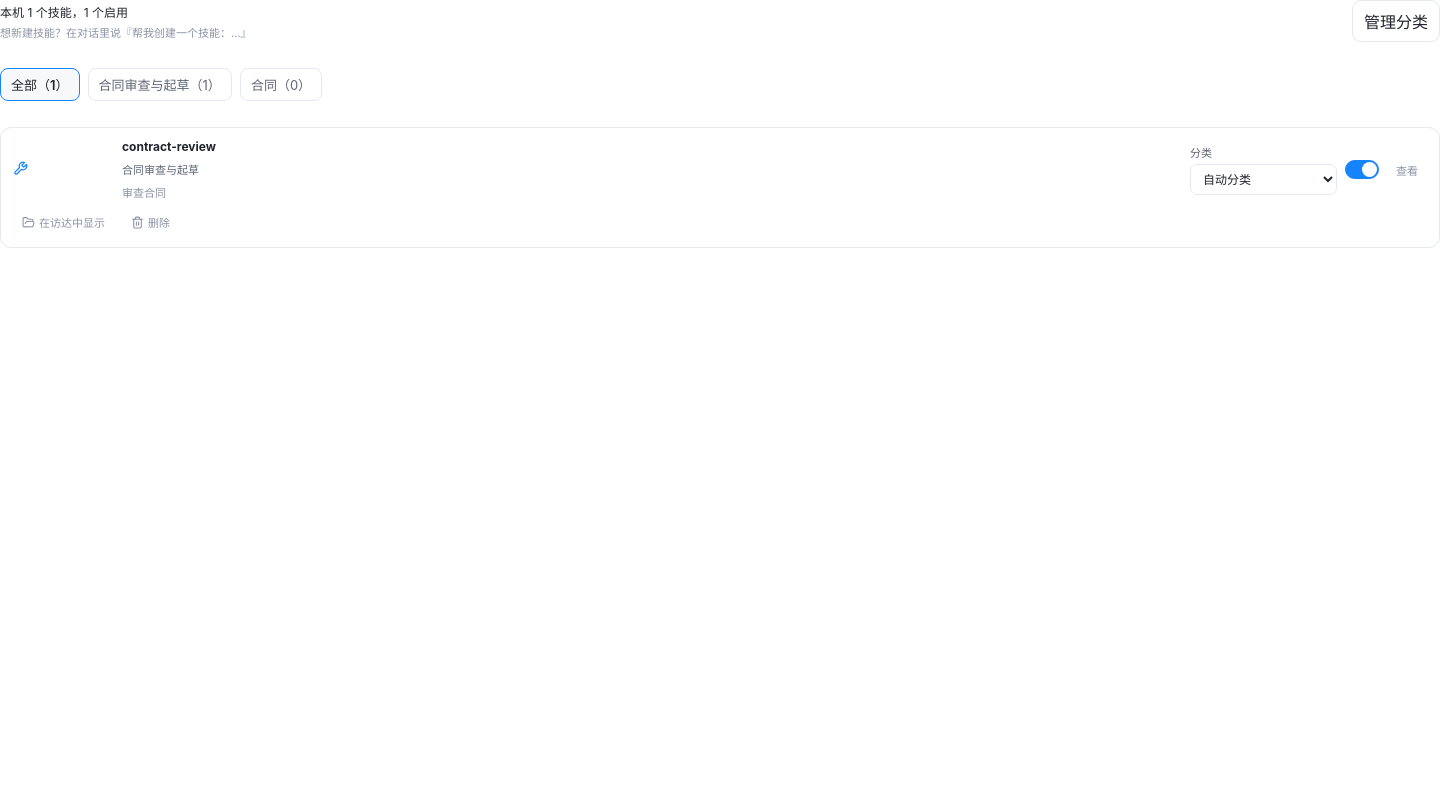
Scenario: renames and deletes custom categories after confirmation
Click the button "管理分类": (1396, 21) [1352,0,1439,42]
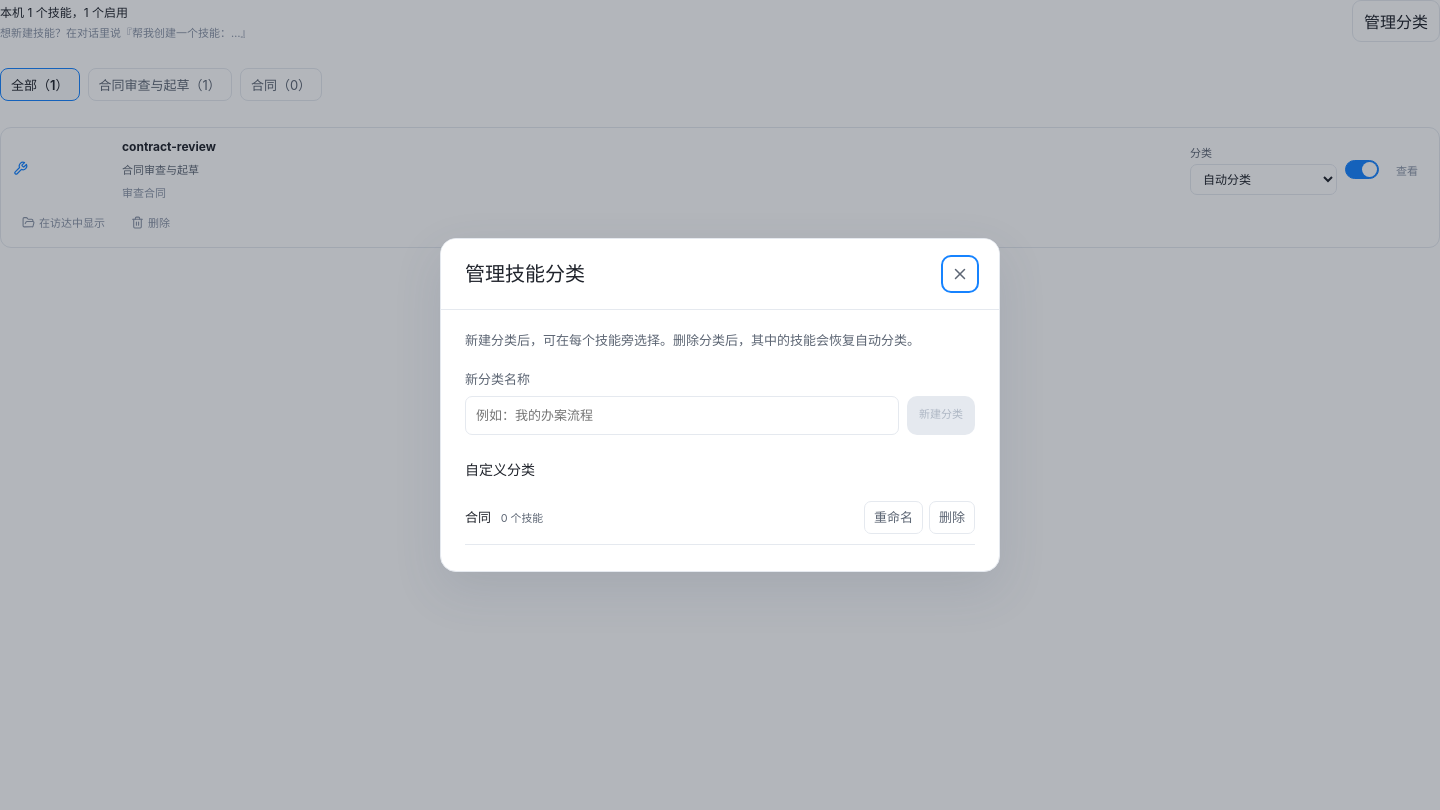
Click the button with aria-label "重命名分类 合同": (894, 517) [864,501,923,534]
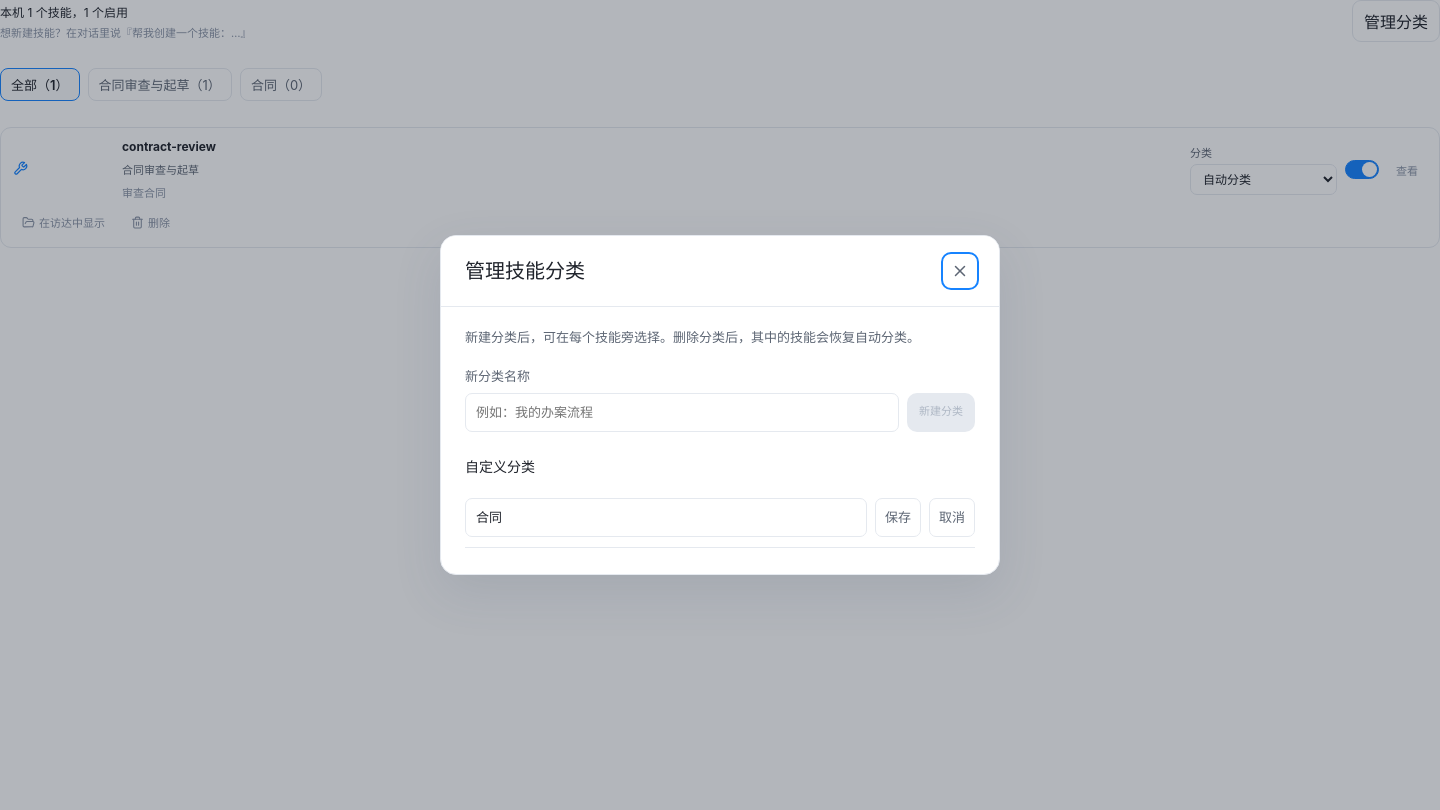
Replace the text in the field named "修改分类 合同 的名称" with "重点合同": (666, 517) [465,498,867,537]
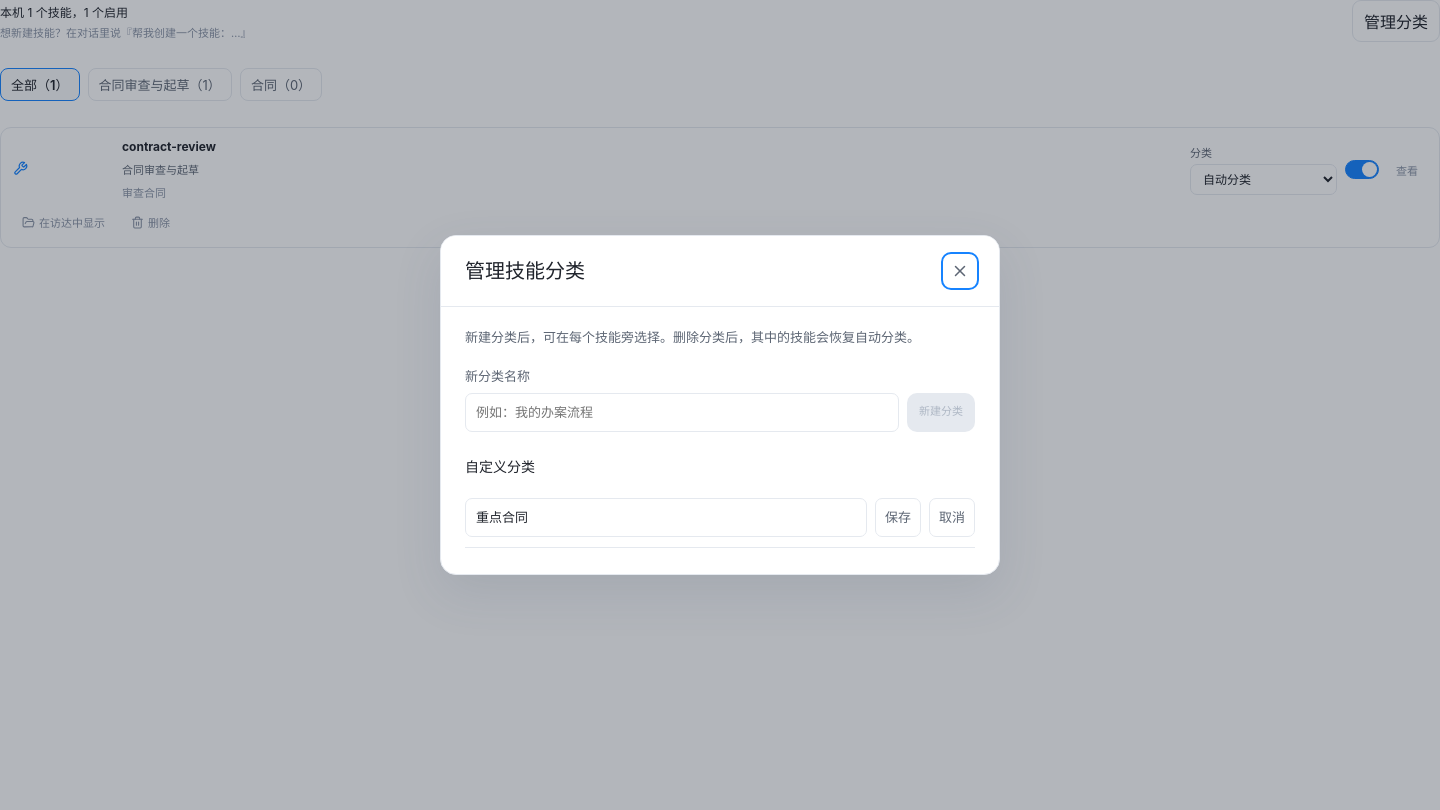
Click the button "保存": (898, 517) [875,498,921,537]
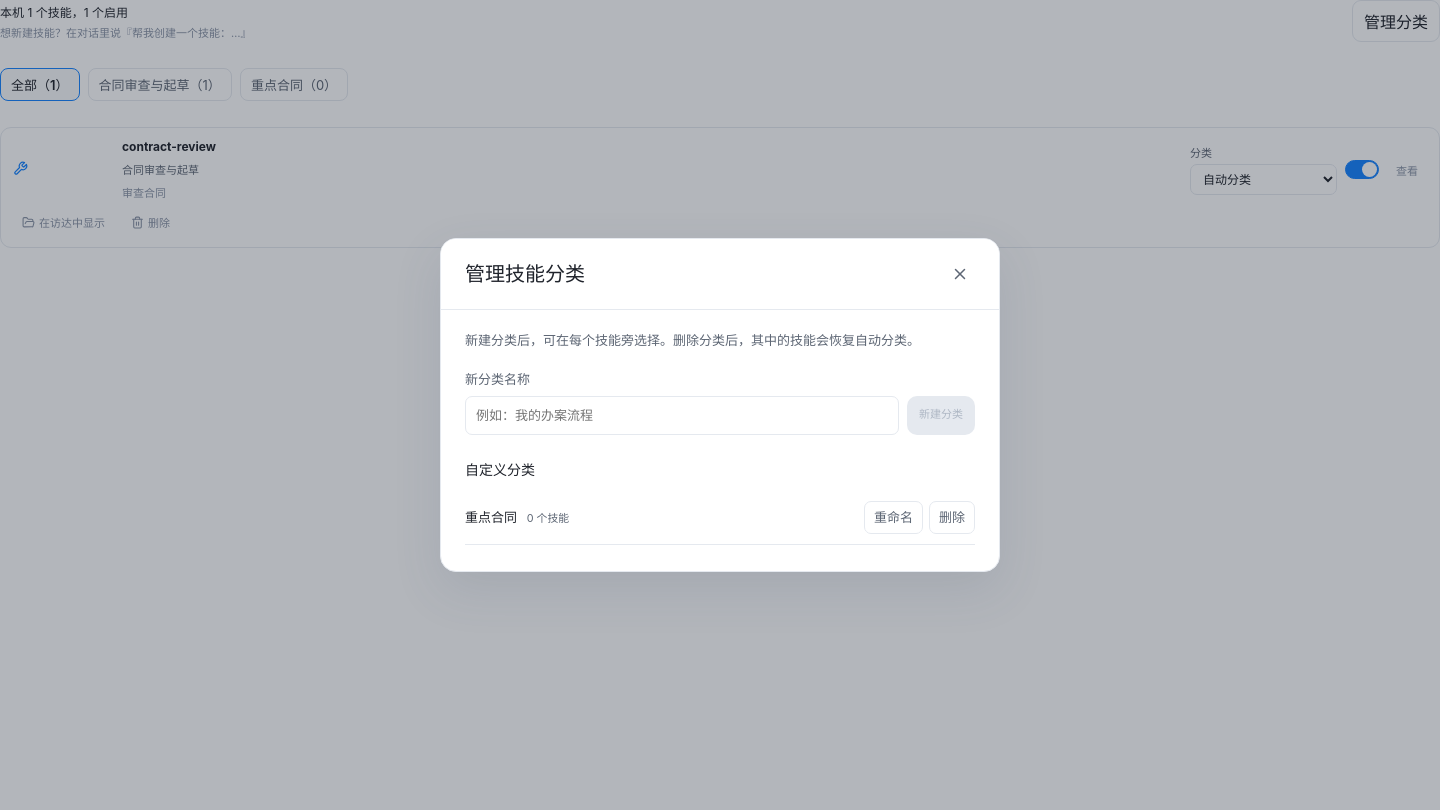
Click the button with aria-label "删除分类 重点合同": (952, 517) [929,501,975,534]
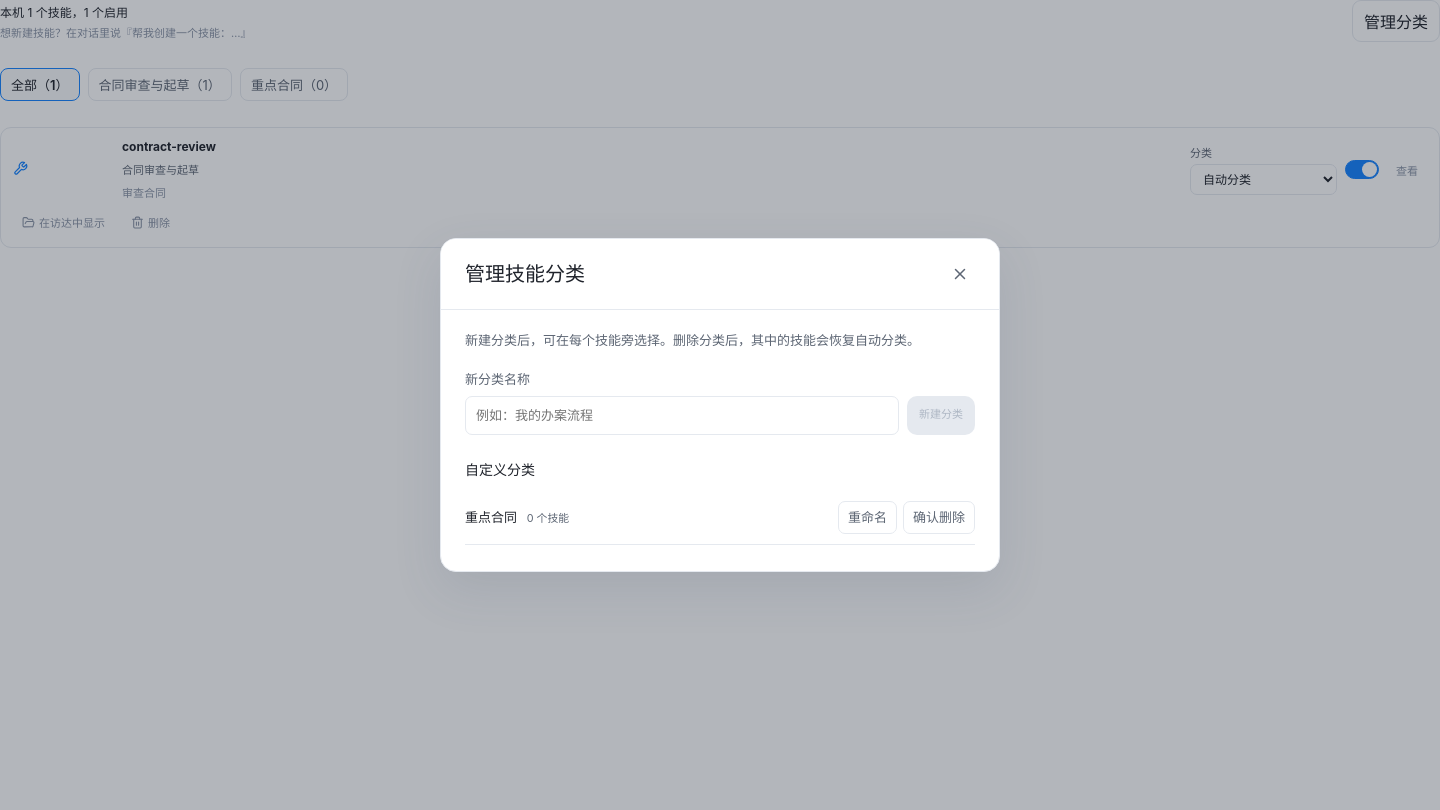
Click the button with aria-label "确认删除分类 重点合同": (939, 517) [903,501,975,534]
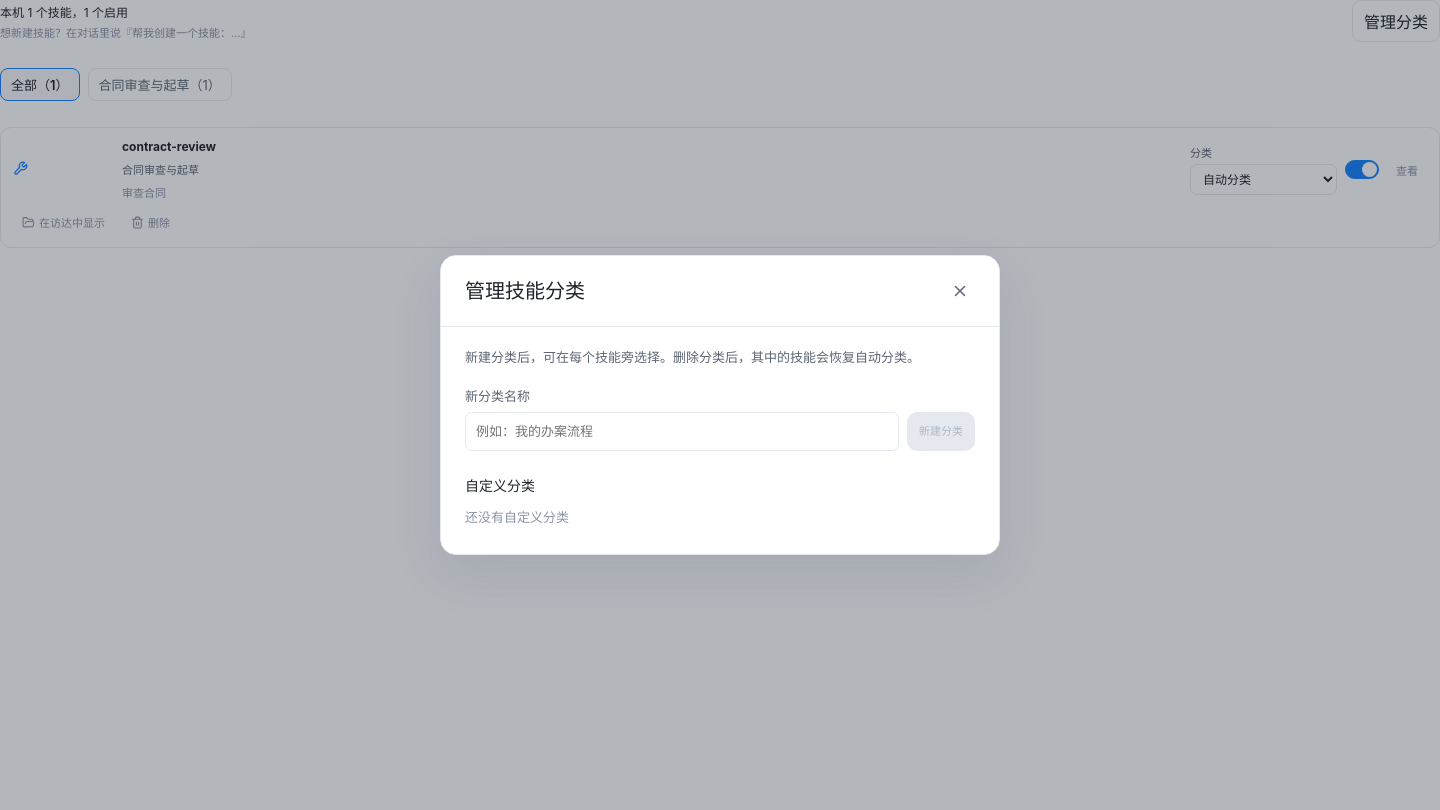
Check: the text "还没有自定义分类" is shown, box [465,510,569,526]
